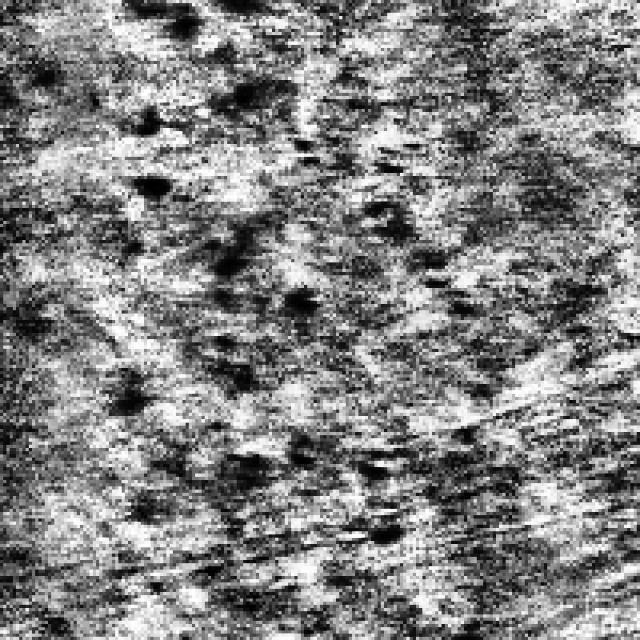Crazing: (196, 179, 407, 541)
